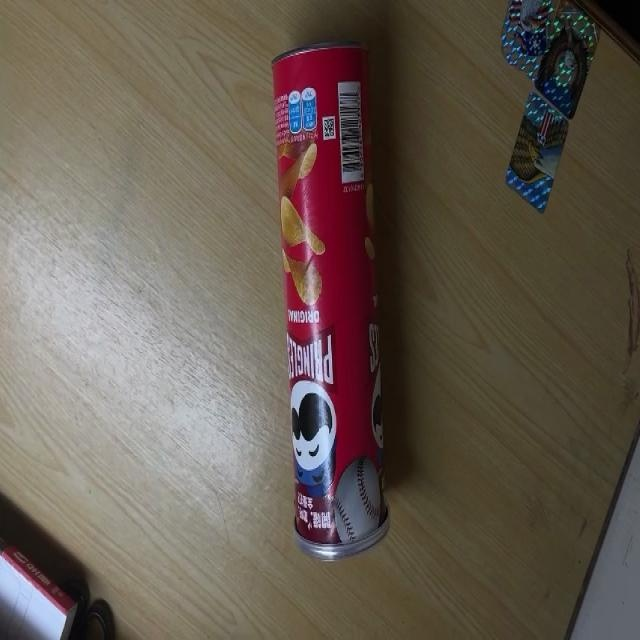Pringles: (268, 40, 390, 562)
